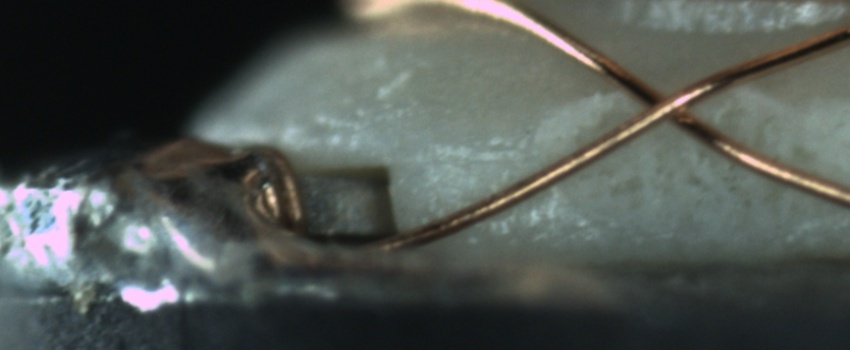CL: (614, 66, 715, 140)
DL: (423, 125, 540, 187)
TE: (230, 134, 306, 230)
